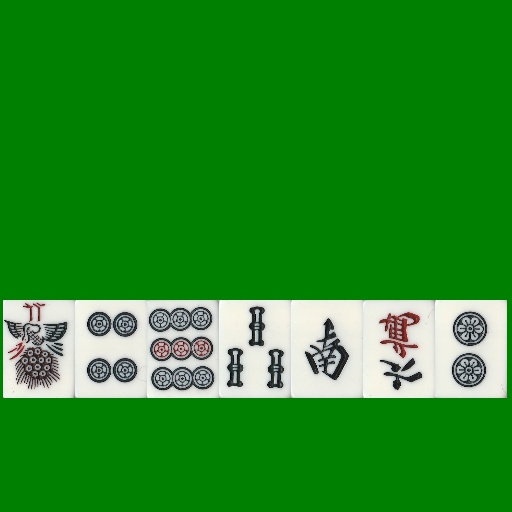1s: (3, 300, 75, 398)
2p: (435, 300, 507, 398)
3s: (219, 300, 291, 398)
4p: (75, 300, 147, 398)
6m: (363, 300, 435, 398)
9p: (147, 300, 219, 398)
south: (291, 300, 363, 398)
